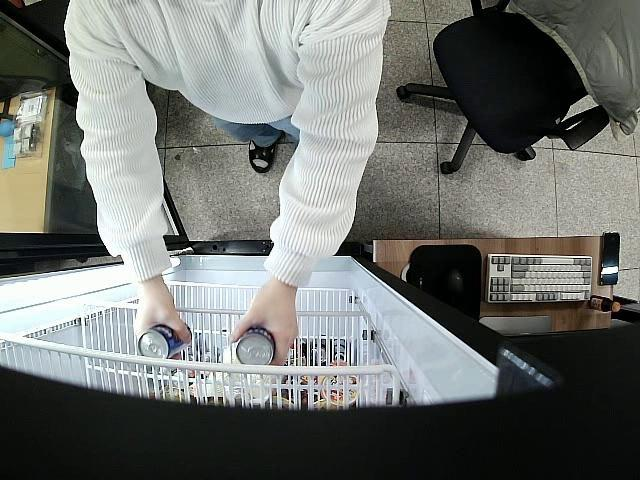16_hot6: (138, 324, 191, 359), (236, 324, 275, 364)
